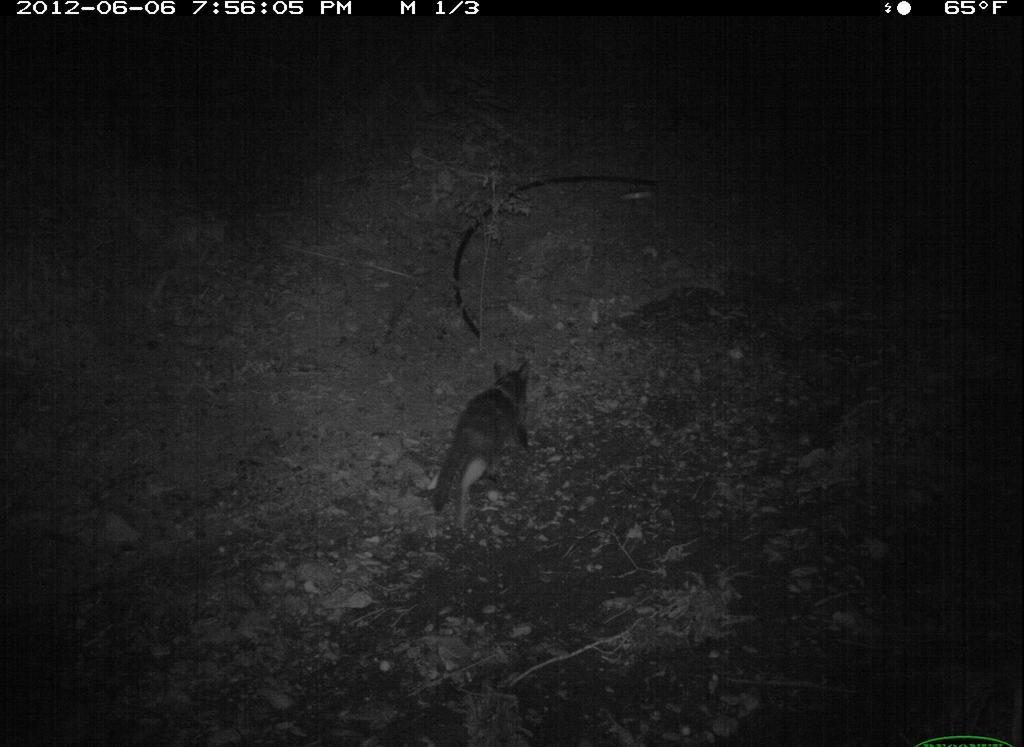cat: (414, 354, 542, 539)
